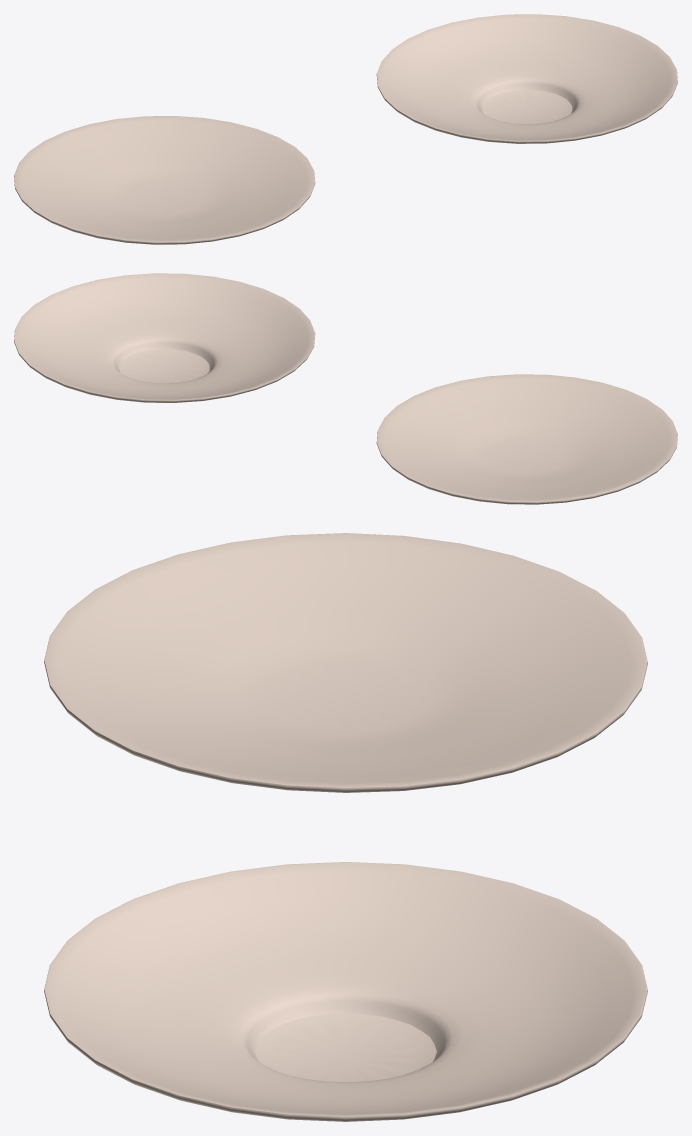
Rendered from Plates.fbx.
3 views of the same model, one above another, from view 1: azimuth 30°, elevation 25°; view 2: azimuth 150°, elevation 25°; view 3: azimuth 270°, elevation 25° (orthographic). The views are drawn at different scales.
Visible parts, largest first — view 1: Circle, Circle.001; view 2: Circle.001, Circle; view 3: Circle, Circle.001.
Part boxes in pixels (x1=…): Circle: x1=376, y1=14, x2=677, y2=143; Circle.001: x1=14, y1=116, x2=315, y2=244; Circle.001: x1=376, y1=374, x2=677, y2=504; Circle: x1=14, y1=273, x2=315, y2=402; Circle: x1=44, y1=862, x2=647, y2=1121; Circle.001: x1=44, y1=533, x2=647, y2=792.
Size of the model in its own units: 564 by 32.95 by 236.
